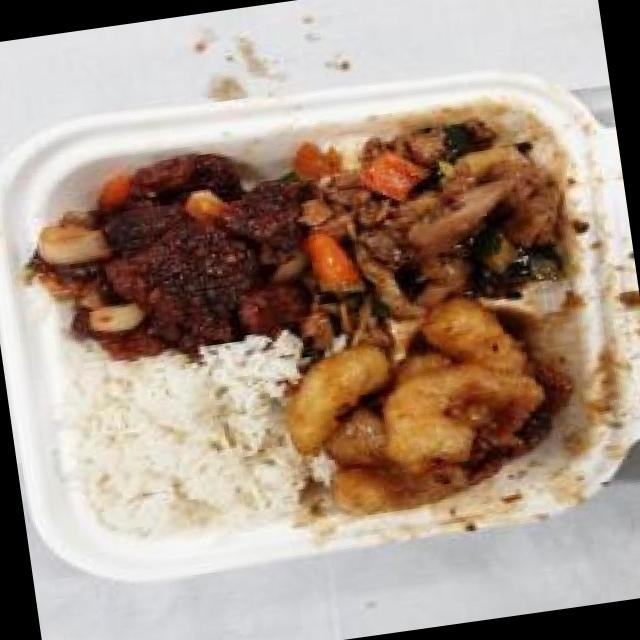Beijing Beef: (18, 132, 322, 374)
Honey Walnut Shrimp: (273, 288, 574, 530)
Kung Pao Chicken: (280, 104, 595, 342)
White Steamed Rice: (60, 338, 308, 550)
